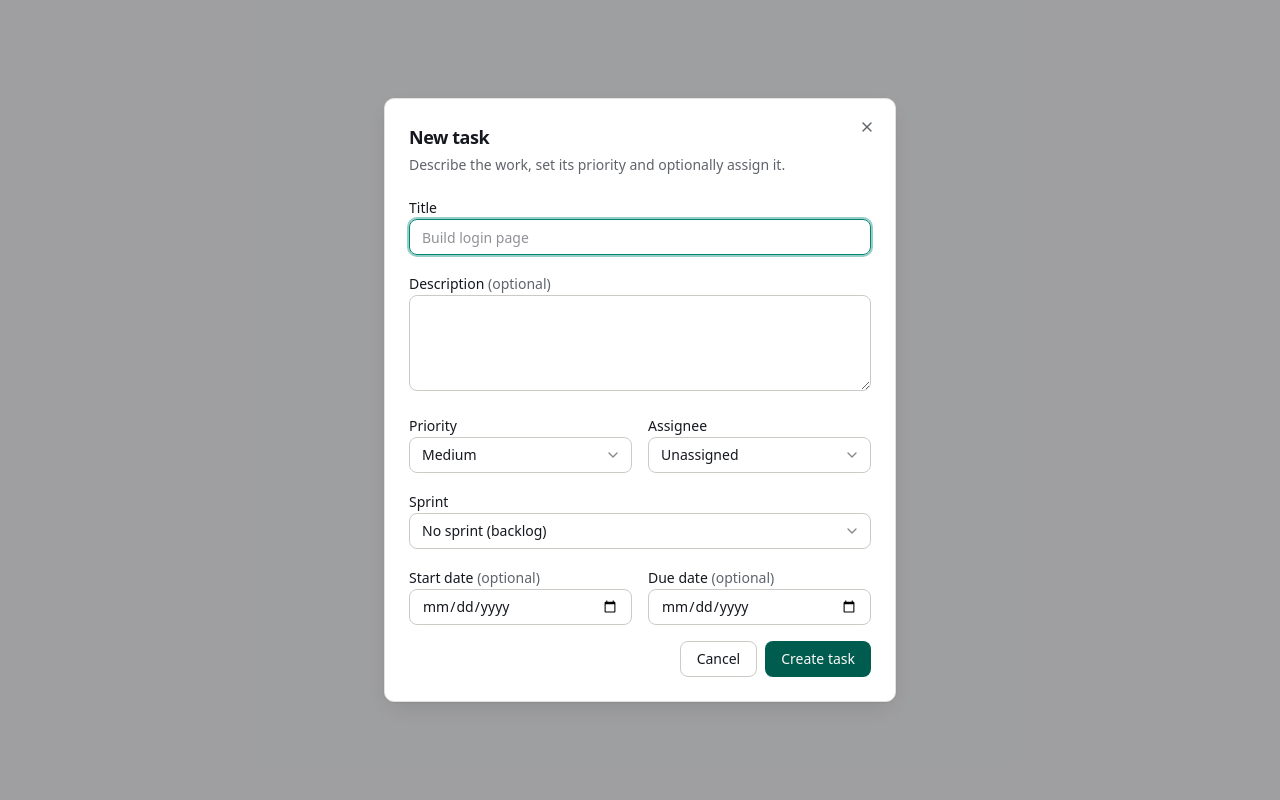
Test: TaskFormDialog › blocks a due date before the start date
The width and height of the screenshot is (1280, 800).
Step 1. Type "X" into the field labelled "Title" → (640, 237), box [409,219,871,255]
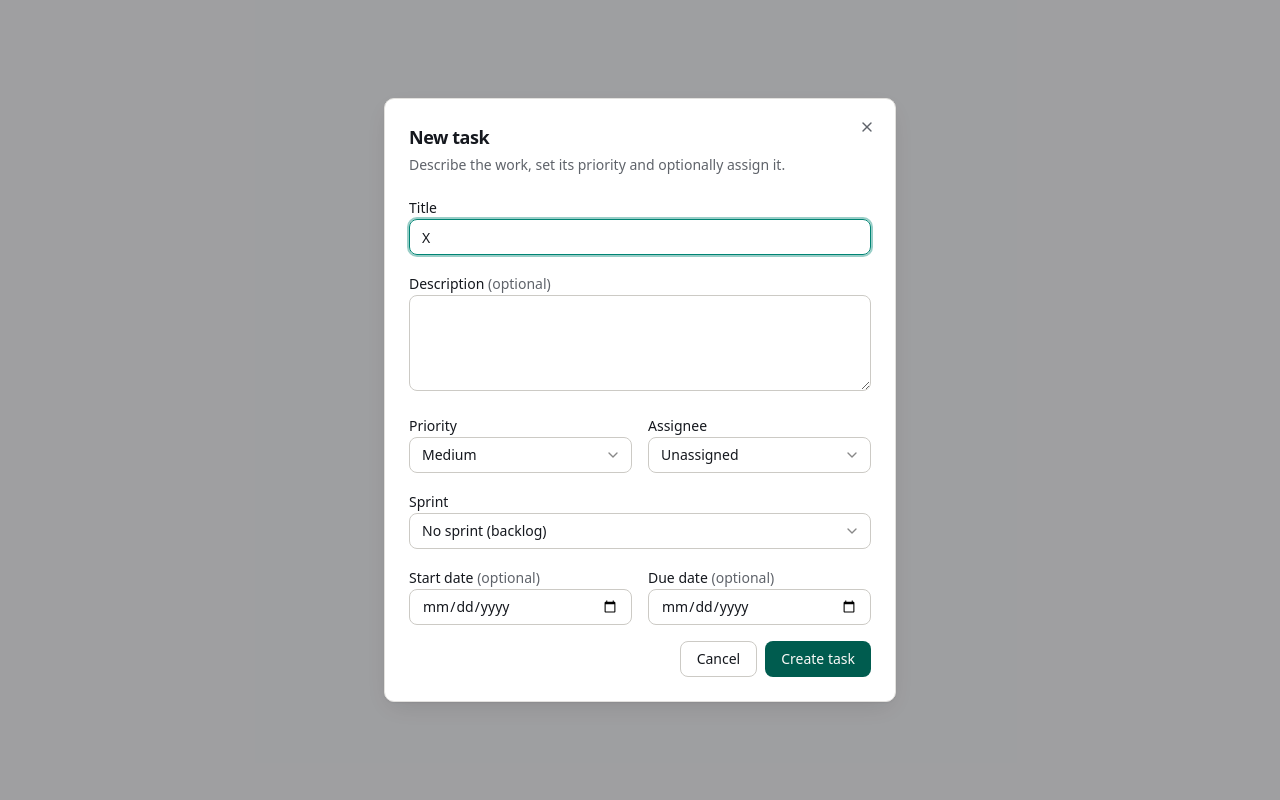
Step 2. Type "2026-03-05" into the date field labelled "Start date (optional)" → (520, 607), box [409,589,632,625]
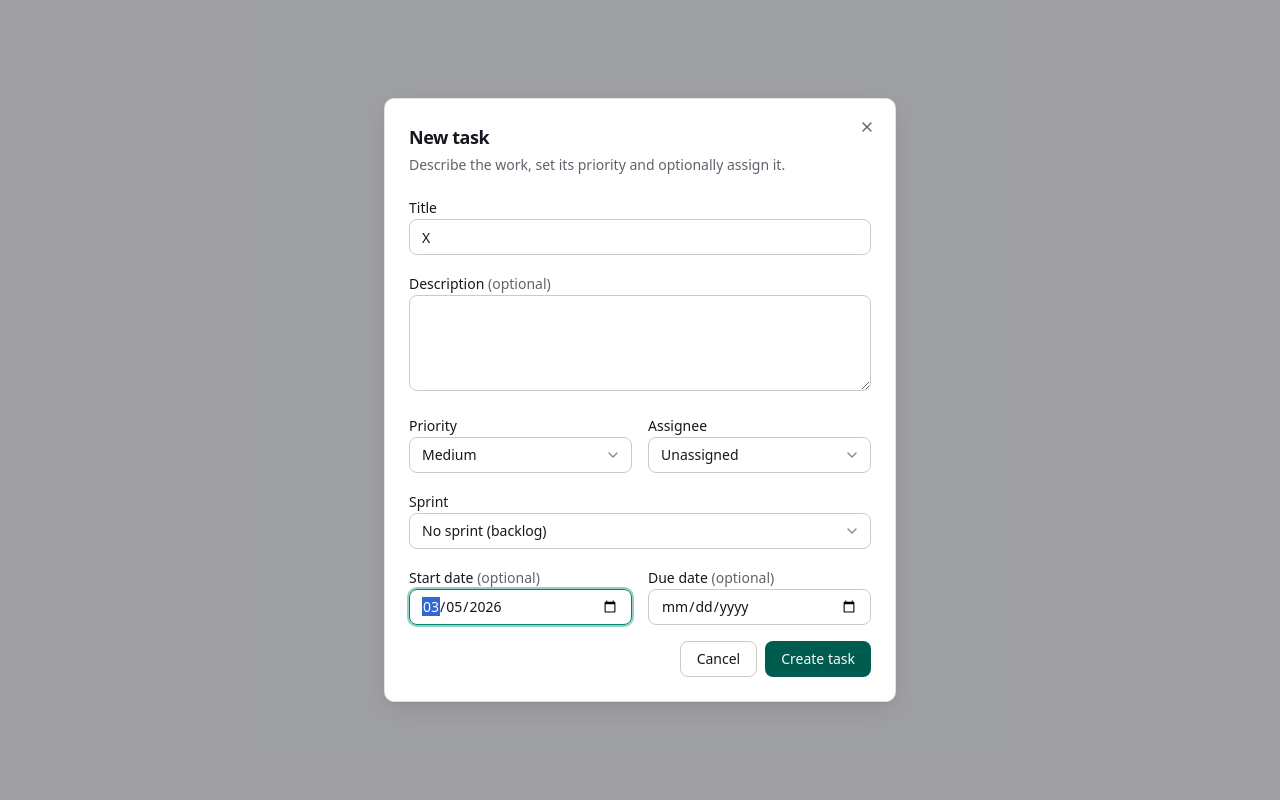
Step 3. Type "2026-03-01" into the date field labelled "Due date (optional)" → (760, 607), box [648,589,871,625]
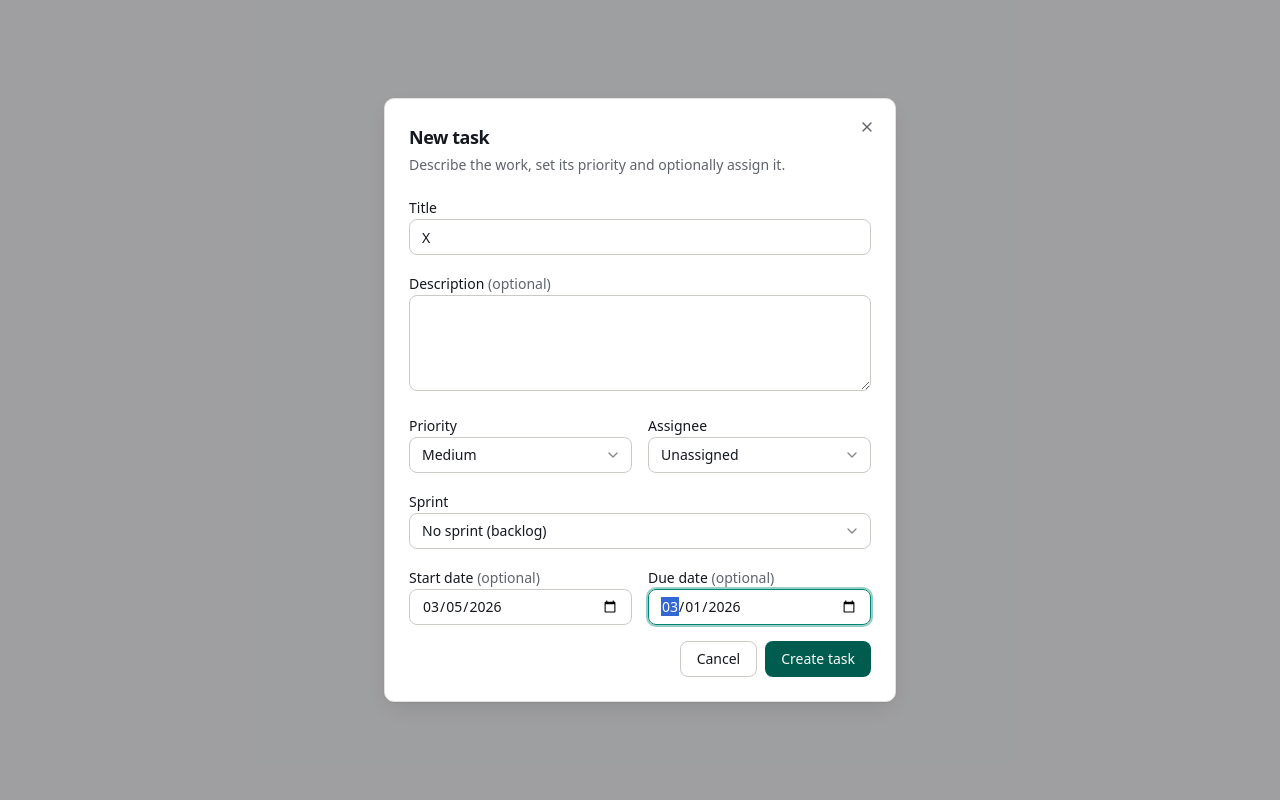
Step 4. Click the button "Create task" → (818, 659), box [765,641,871,677]
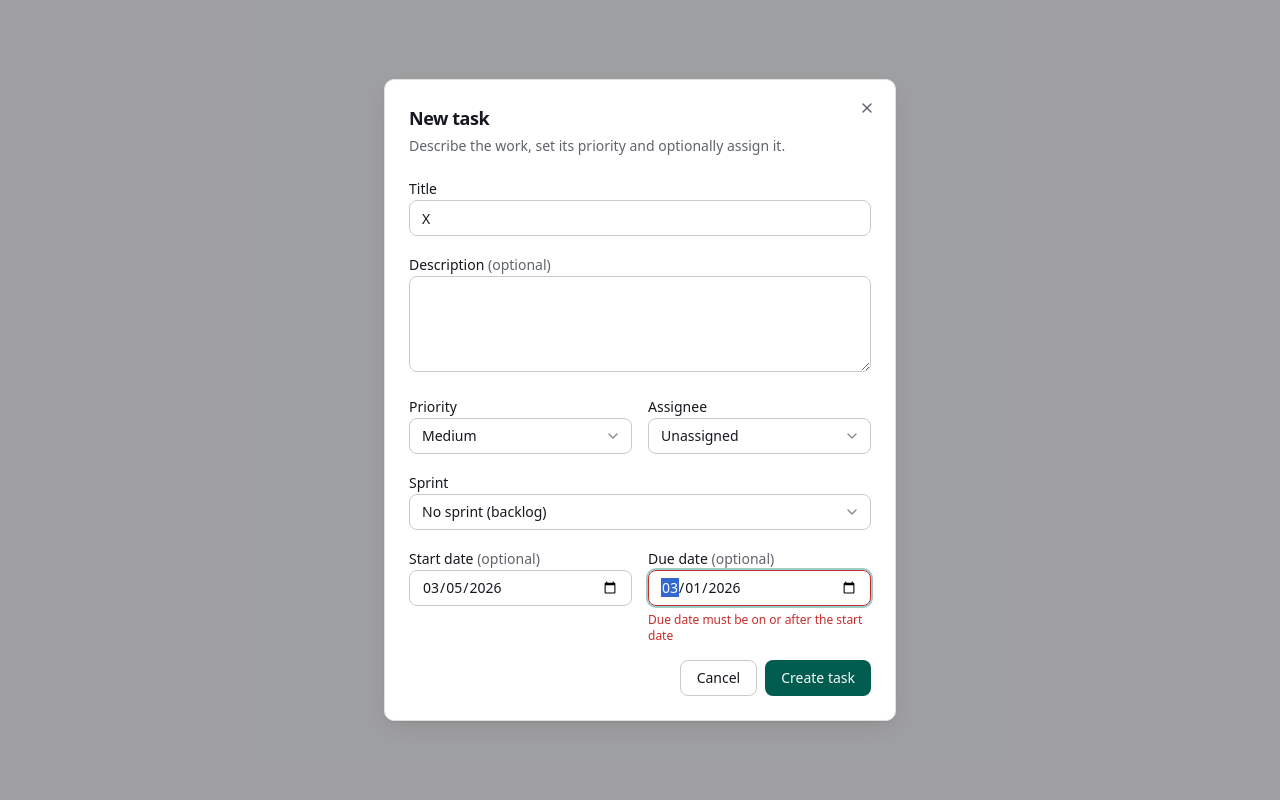
expect the text "Due date must be on or after the start date" is shown: met, box [648,612,871,644]
